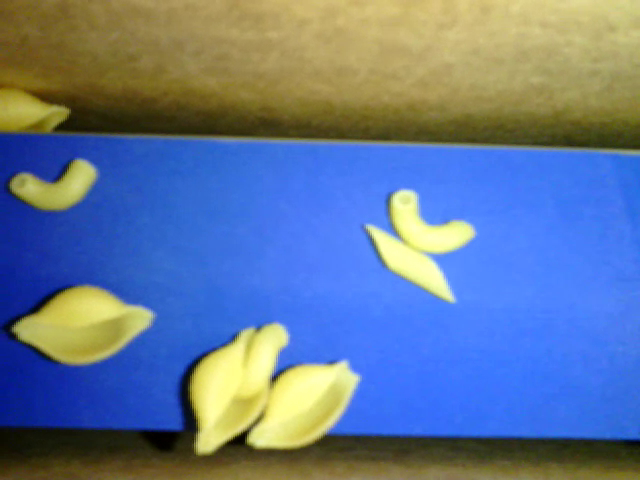elbow: (390, 185, 476, 256), (10, 151, 101, 215), (230, 318, 292, 403)
penne: (362, 220, 459, 304)
shell: (9, 283, 161, 376), (242, 347, 369, 454), (176, 311, 271, 454), (1, 80, 73, 137)
